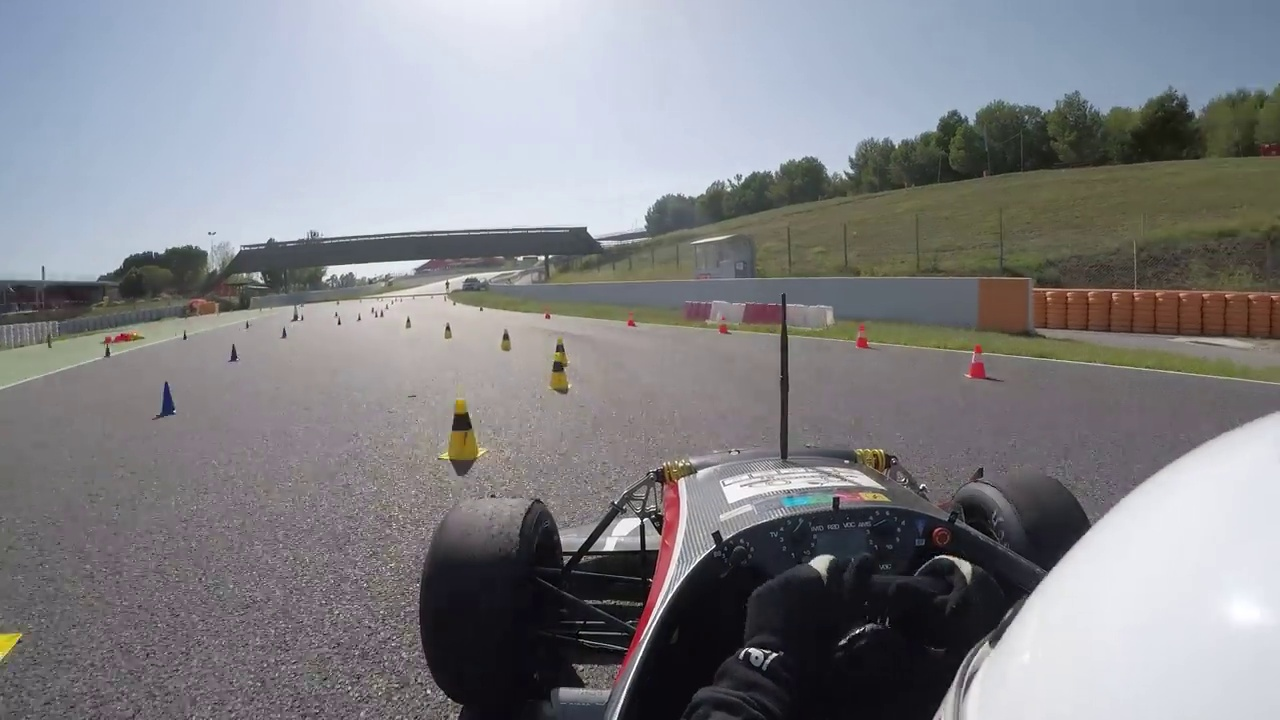Cone: (441, 402, 481, 464), (965, 341, 993, 379), (547, 350, 570, 393)
